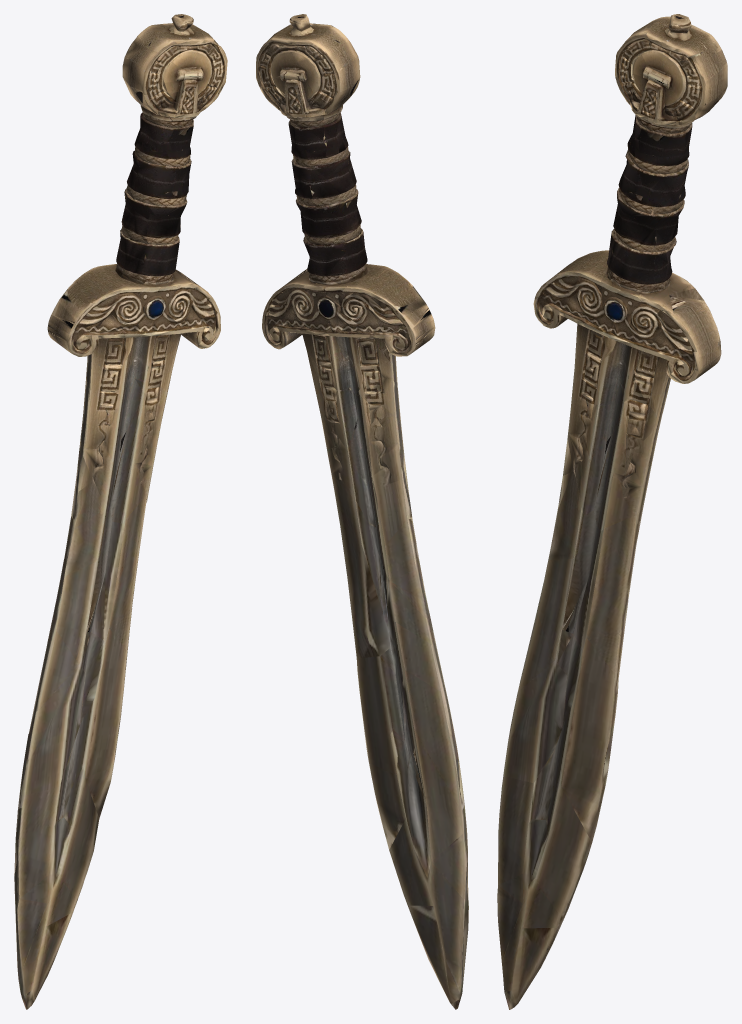
File: sword.glb
The picture shows the model from 3 angles, left to right: view 1: azimuth 30°, elevation 25°; view 2: azimuth 150°, elevation 25°; view 3: azimuth 330°, elevation 25°; orthographic projection. The views are drawn at different scales.
Visible parts, largest first — view 1: output_unwrapped; view 2: output_unwrapped; view 3: output_unwrapped.
Boxes of the visible parts, box(x1,y1,x2,y2) form: output_unwrapped: box(14, 14, 227, 1009); output_unwrapped: box(256, 14, 468, 1009); output_unwrapped: box(497, 14, 727, 1009).
Bounding box in the file's own units: 0.4224 × 1.9 × 0.1228.
1 material, 1 textured.
